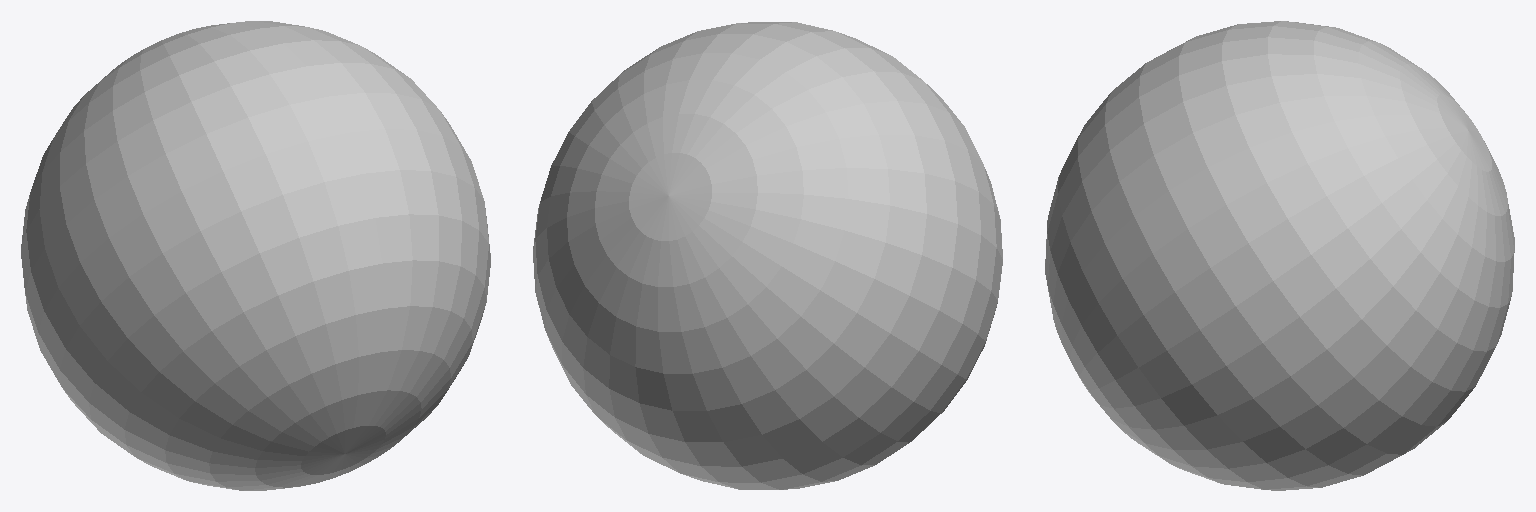
The model's file is earth.obj.
3 views of the same model, side by side, from view 1: azimuth 30°, elevation 25°; view 2: azimuth 150°, elevation 25°; view 3: azimuth 270°, elevation 25° (orthographic).
Parts seen in each view (by area): view 1: 球; view 2: 球; view 3: 球.
Part boxes in pixels (x1,y1,x2,y2): 球: (21,21,490,490); 球: (533,22,1002,489); 球: (1045,21,1514,490).
Bounding box in the file's own units: 1.99 × 1.99 × 2.